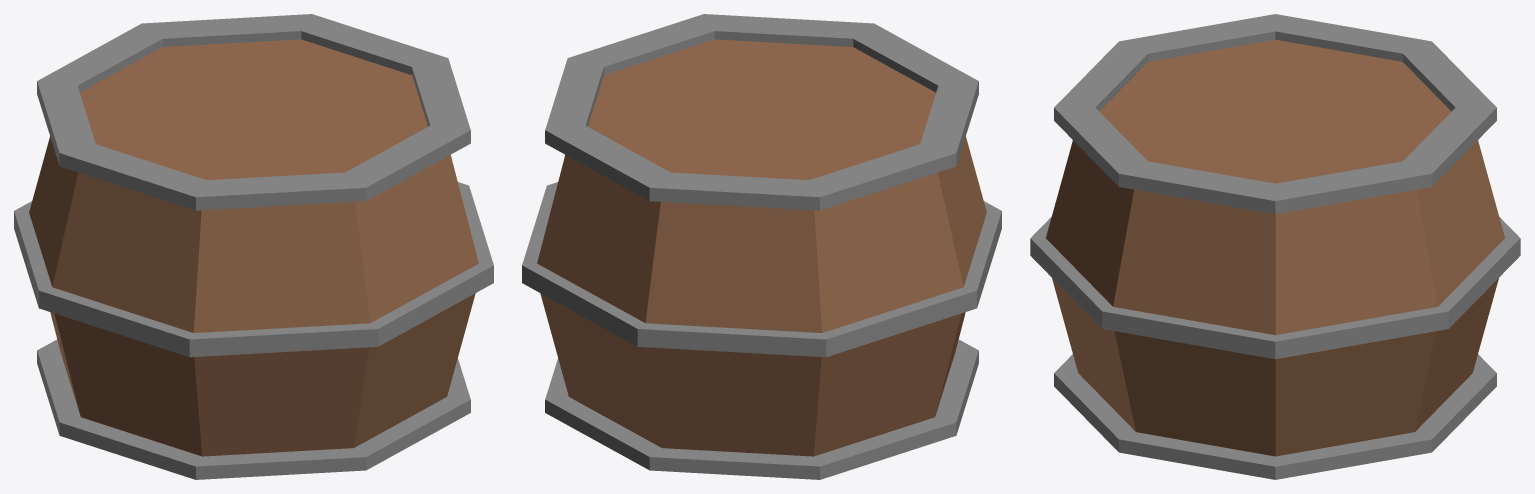
The model's file is barrel.glb.
3 renders of one model, left to right at view 1: azimuth 30°, elevation 25°; view 2: azimuth 150°, elevation 25°; view 3: azimuth 270°, elevation 25°, orthographic.
Parts seen in each view (by area): view 1: barrel 7; view 2: barrel 7; view 3: barrel 7.
Boxes of the visible parts, box(x1,y1,x2,y2) form: barrel 7: box(14, 14, 493, 479); barrel 7: box(522, 14, 1001, 479); barrel 7: box(1030, 14, 1520, 479).
Bounding box in the file's own units: 0.6519 × 0.4093 × 0.6519.
